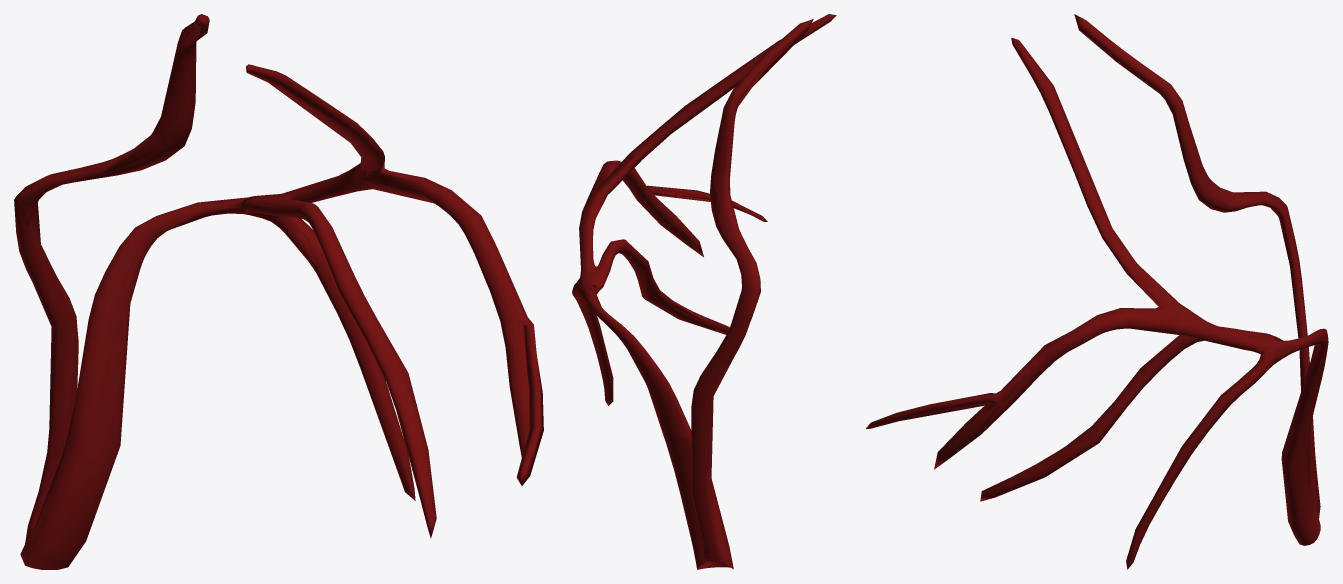
Rendered from L arteria occipitalis.fbx.
3 renders of one model, left to right at view 1: azimuth 30°, elevation 25°; view 2: azimuth 150°, elevation 25°; view 3: azimuth 270°, elevation 25°, orthographic. The views are drawn at different scales.
Visible parts, largest first — view 1: L arteria occipitalis, L arteria occipitalis low, L arteria occipitalis high; view 2: L arteria occipitalis, L arteria occipitalis high, L arteria occipitalis low; view 3: L arteria occipitalis, L arteria occipitalis low, L arteria occipitalis high.
Boxes of the visible parts, <box> form: L arteria occipitalis: <box>14,14,543,569</box>; L arteria occipitalis low: <box>14,26,543,569</box>; L arteria occipitalis high: <box>20,21,538,557</box>; L arteria occipitalis: <box>572,14,836,569</box>; L arteria occipitalis high: <box>576,27,810,569</box>; L arteria occipitalis low: <box>573,24,816,569</box>; L arteria occipitalis: <box>866,14,1328,568</box>; L arteria occipitalis low: <box>896,21,1324,564</box>; L arteria occipitalis high: <box>945,36,1325,569</box>.
Bounding box in the file's own units: 6.22 × 11.4 × 9.08.
